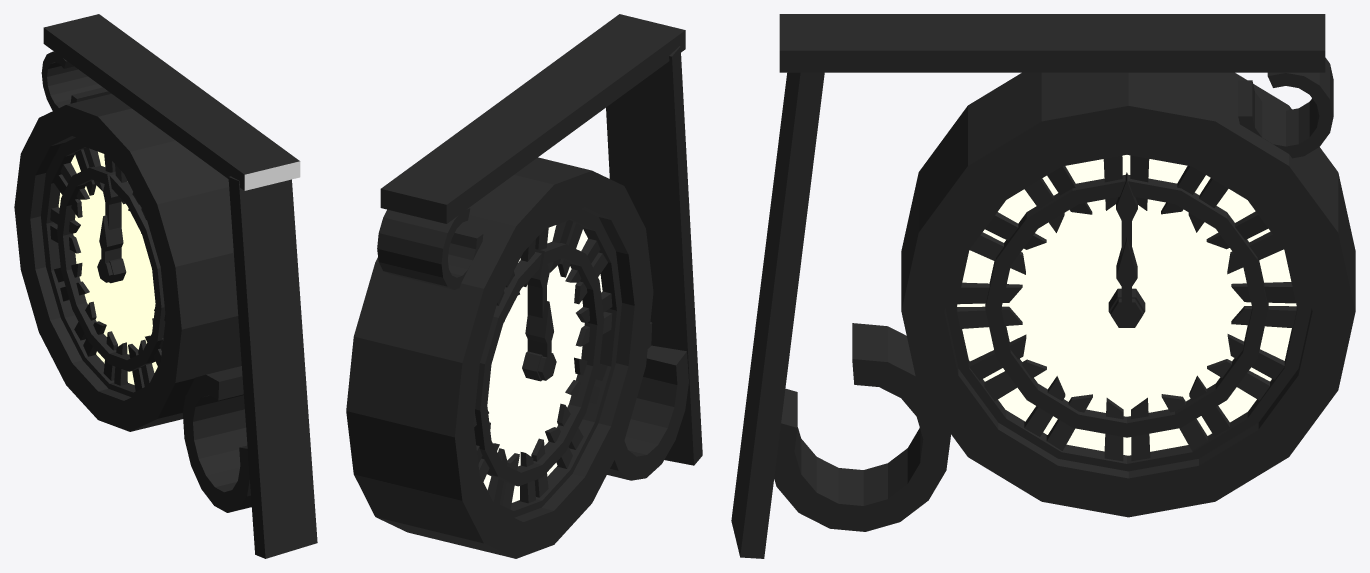
Rendered from WallClock.fbx.
3 renders of one model, left to right at view 1: azimuth 30°, elevation 25°; view 2: azimuth 150°, elevation 25°; view 3: azimuth 270°, elevation 25°, orthographic. The views are drawn at different scales.
Visible parts, largest first — view 1: Pipe_1, Cube__1_, Cube, WallClock, Pipe__1_, Cylinder, Pipe, ClockPointer__4_, ClockPointer_002__1_; view 2: Pipe_1, Cube, WallClock, Cube__1_, Cylinder, Pipe__1_, Pipe, ClockPointer__4_, ClockPointer_002__1_; view 3: Pipe_1, Cylinder, WallClock, Cube, Cube__1_, Pipe__1_, Pipe, ClockPointer__4_, ClockPointer_002__1_.
Boxes of the visible parts, x1=… form: Pipe_1: x1=14, y1=93, x2=241, y2=431; Cube__1_: x1=228, y1=176, x2=317, y2=558; Cube: x1=43, y1=14, x2=300, y2=190; WallClock: x1=41, y1=137, x2=165, y2=397; Pipe__1_: x1=182, y1=366, x2=251, y2=512; Cylinder: x1=58, y1=151, x2=157, y2=384; Pipe: x1=41, y1=51, x2=111, y2=110; ClockPointer__4_: x1=97, y1=215, x2=123, y2=282; ClockPointer_002__1_: x1=103, y1=171, x2=126, y2=283; Pipe_1: x1=346, y1=157, x2=653, y2=558; Cube: x1=380, y1=14, x2=685, y2=223; WallClock: x1=473, y1=209, x2=621, y2=517; Cube__1_: x1=606, y1=46, x2=702, y2=465; Cylinder: x1=483, y1=225, x2=602, y2=502; Pipe__1_: x1=607, y1=322, x2=688, y2=480; Pipe: x1=377, y1=208, x2=483, y2=289; ClockPointer__4_: x1=525, y1=300, x2=556, y2=380; ClockPointer_002__1_: x1=522, y1=249, x2=549, y2=381; Pipe_1: x1=901, y1=72, x2=1355, y2=517; Cylinder: x1=957, y1=155, x2=1296, y2=455; WallClock: x1=945, y1=145, x2=1311, y2=471; Cube: x1=779, y1=14, x2=1325, y2=72; Cube__1_: x1=731, y1=72, x2=824, y2=558; Pipe__1_: x1=774, y1=323, x2=950, y2=531; Pipe: x1=1238, y1=57, x2=1333, y2=158; ClockPointer__4_: x1=1110, y1=237, x2=1143, y2=327; ClockPointer_002__1_: x1=1108, y1=172, x2=1145, y2=314.
Bounding box in the file's own units: 30 × 117 × 131.
